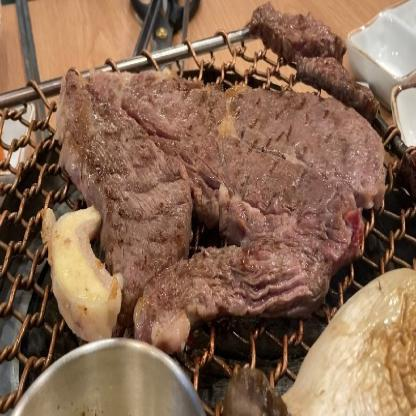Carne: (143, 96, 386, 313), (56, 77, 198, 272), (262, 4, 346, 96)
